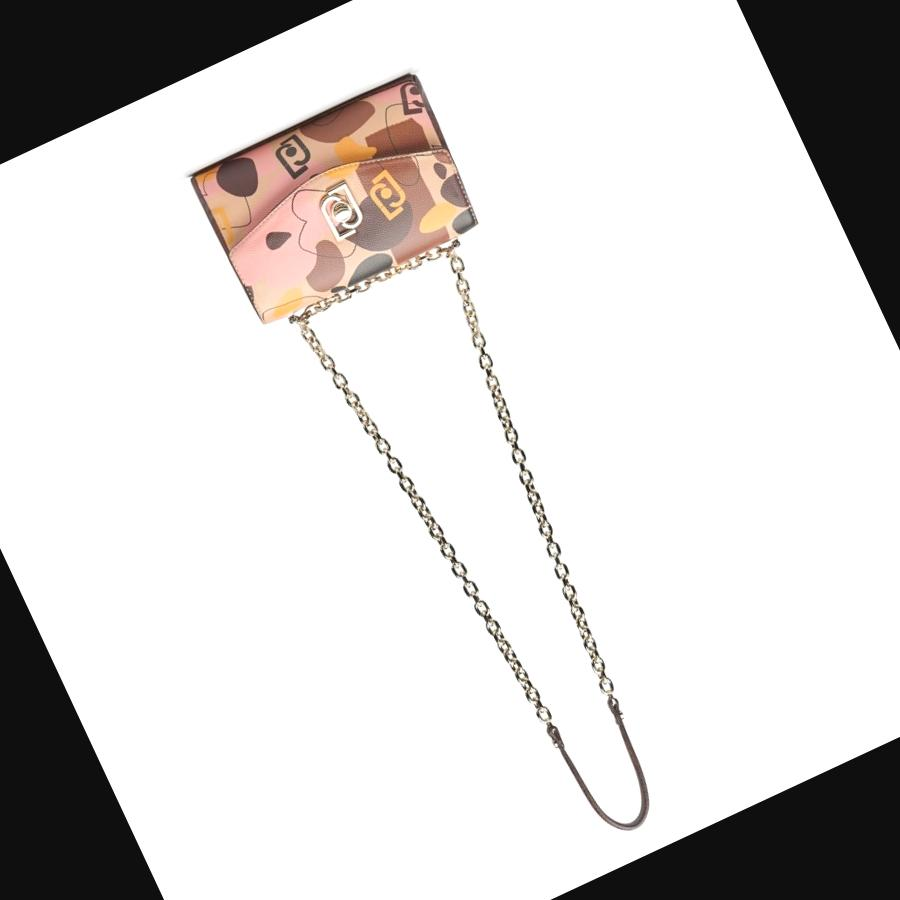LIU-JO: (312, 180, 368, 242)
